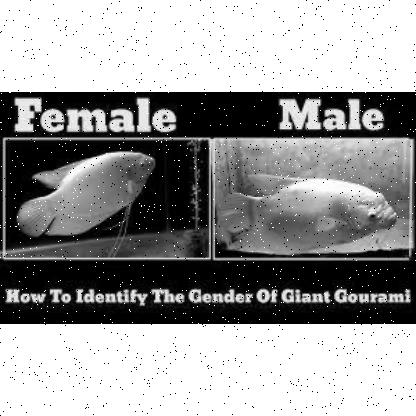gurame: (222, 174, 402, 252), (18, 149, 156, 239)
